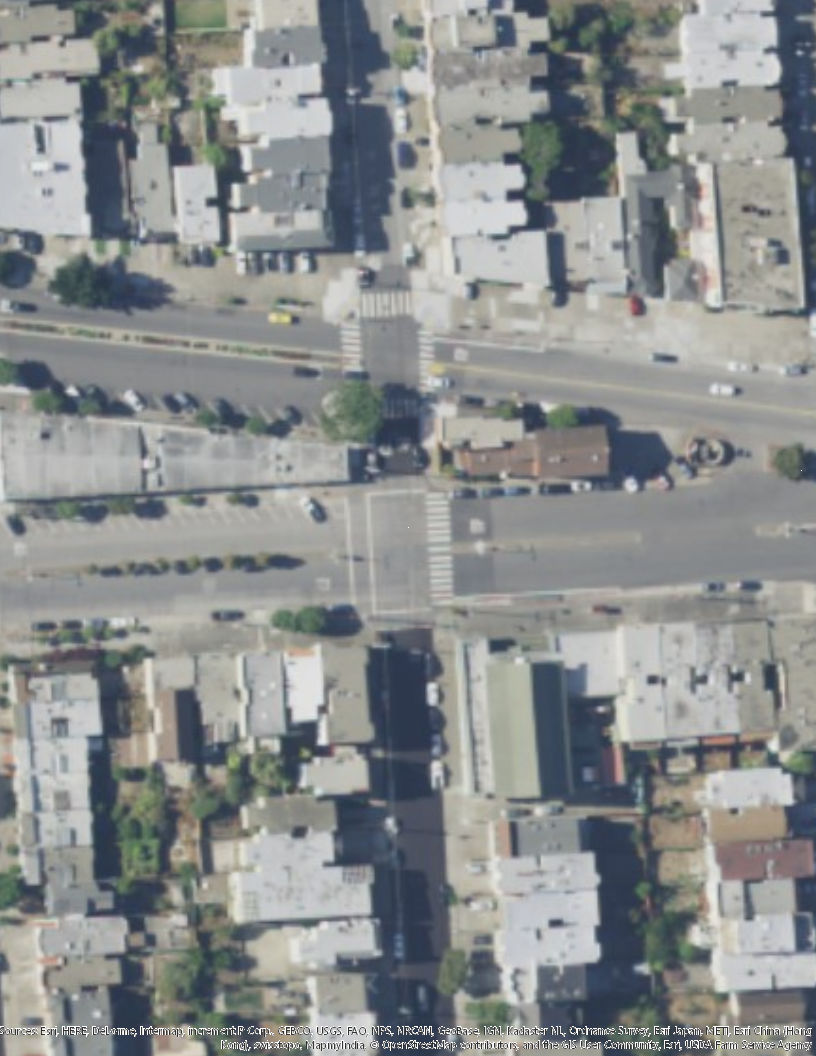zebracross: (425, 491, 456, 597), (356, 293, 416, 323), (338, 317, 366, 377), (417, 330, 438, 395), (379, 398, 424, 423)
